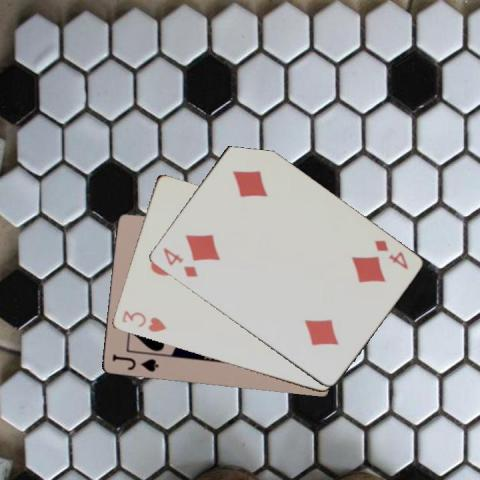3h: (119, 307, 167, 334)
4d: (160, 244, 200, 279), (371, 237, 410, 271)
Js: (109, 351, 160, 373)
